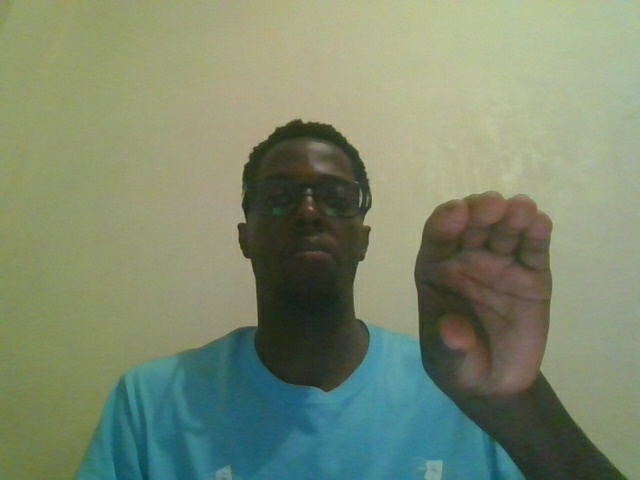No: (396, 181, 640, 477)
